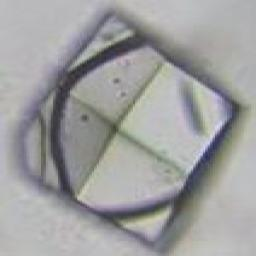crystals: (18, 11, 248, 248)
